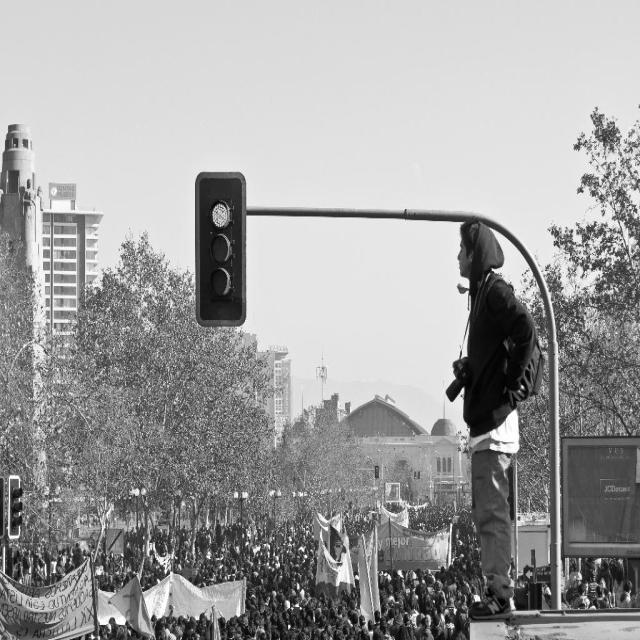off traffic light: (11, 488, 23, 532)
traffic light: (208, 199, 234, 301)
